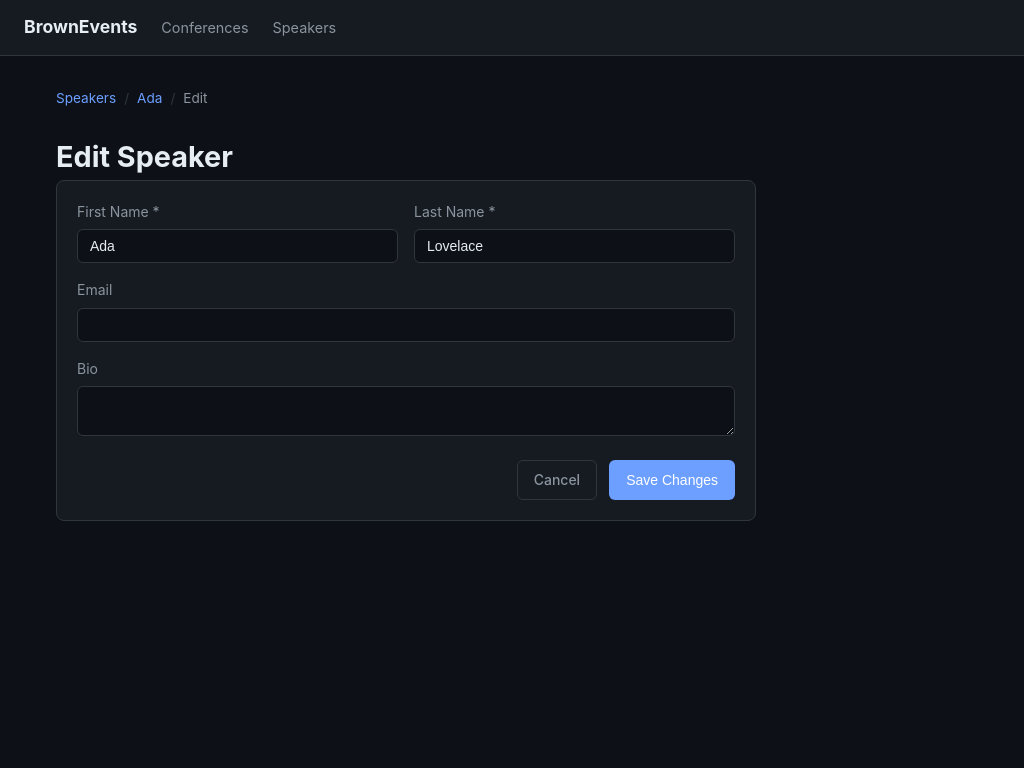
Scenario: blocks submission and shows an error for an invalid email
Expected: the field showing "Ada" is shown, [77,229,398,263]
Type "not-an-email" into the field labelled "Email" at x=406, y=325, box [77,308,735,342]
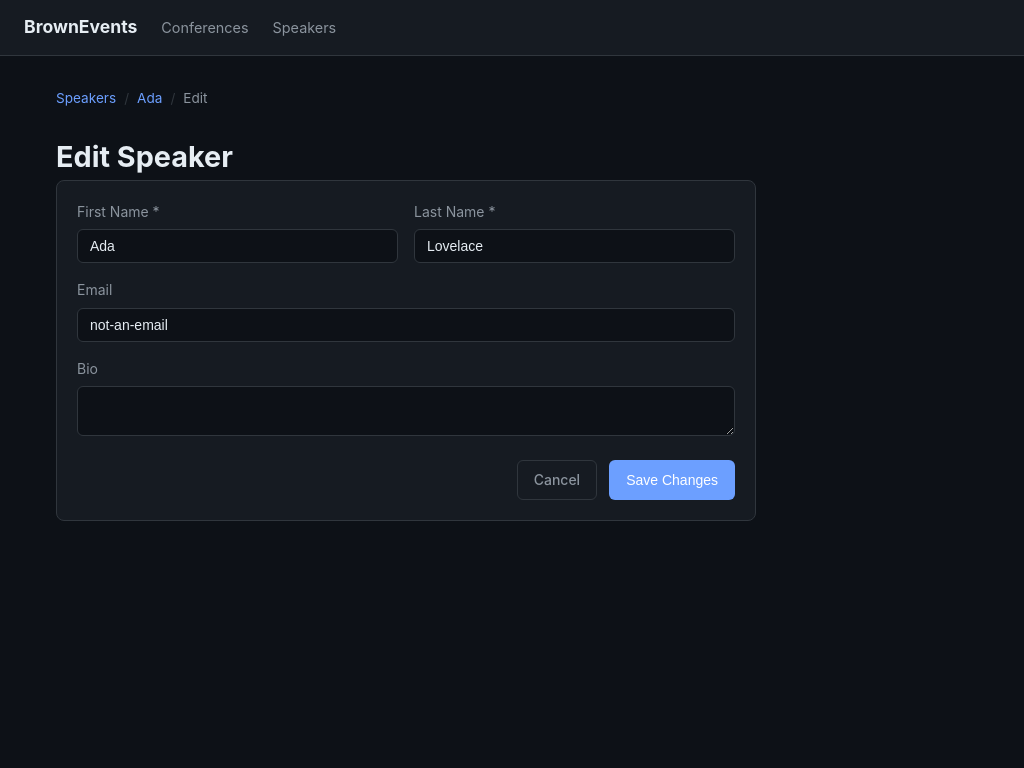
Click the button "Save Changes" at x=672, y=480, box [609,460,735,500]
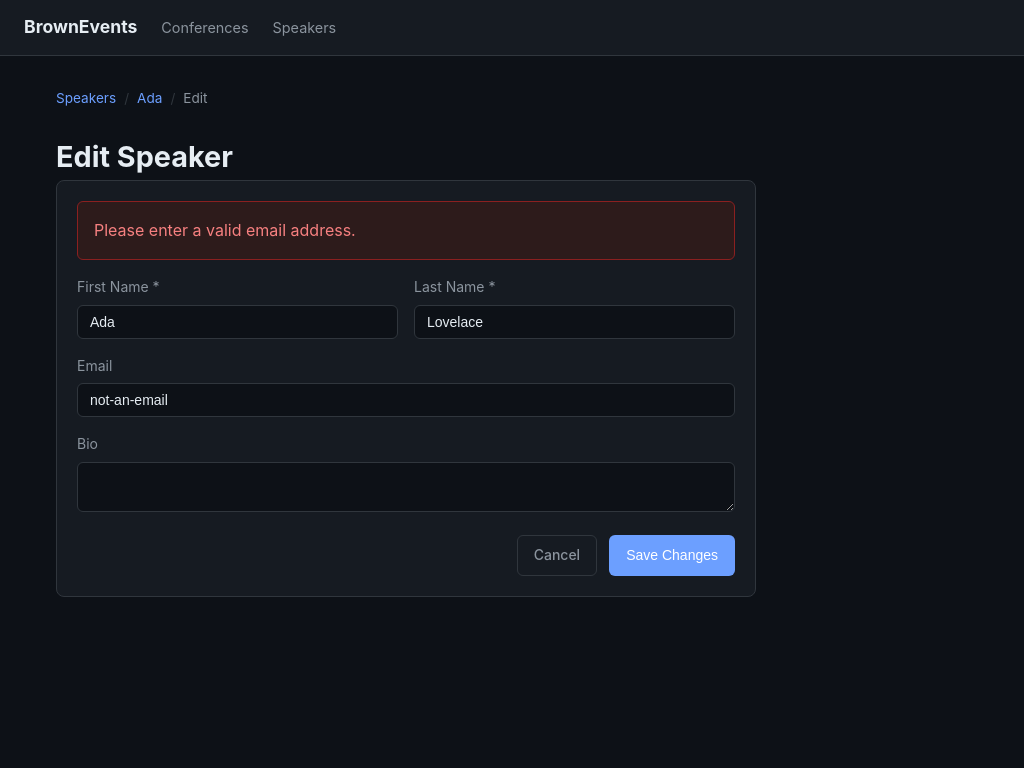
Expected: the text "Please enter a valid email address." is shown, [94,220,356,240]
